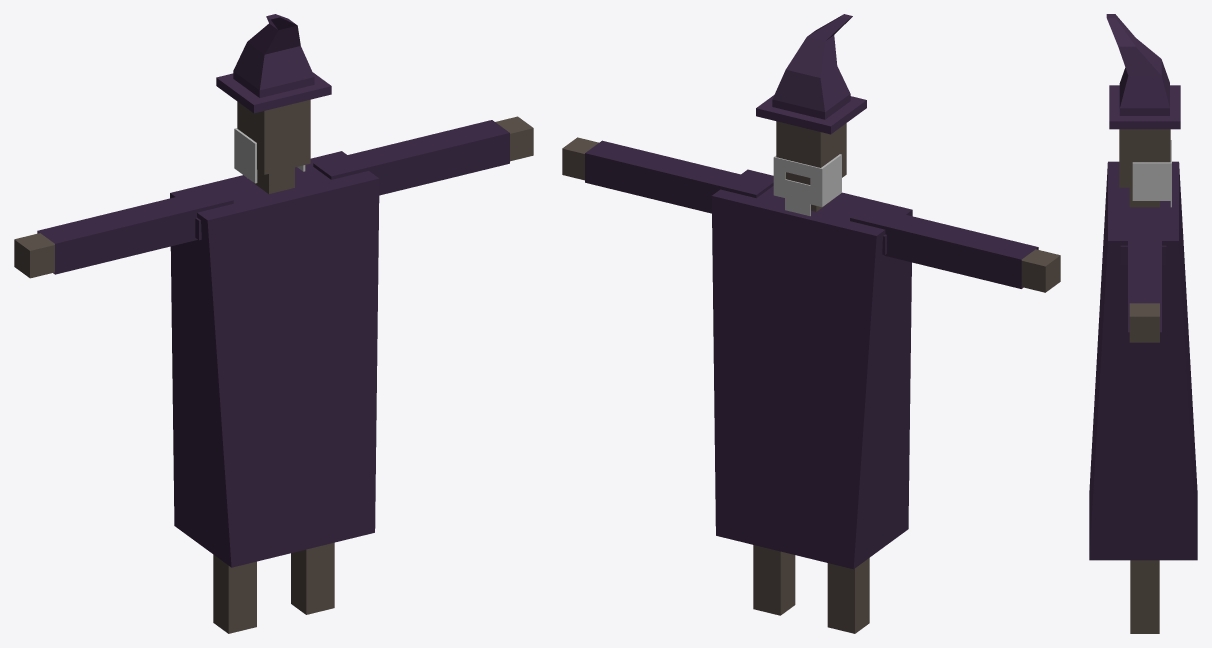
Rendered from Mage.fbx.
3 renders of one model, left to right at view 1: azimuth 30°, elevation 25°; view 2: azimuth 150°, elevation 25°; view 3: azimuth 270°, elevation 25°, orthographic. The views are drawn at different scales.
Parts seen in each view (by area): view 1: SM_neck5, SM_leftArm6 (×2), SM_hat1, SM_head1, pCube11, pCube10, SM_leftArm7 (×2), SM_beard1, SM_neck6; view 2: SM_neck5, SM_leftArm6 (×2), SM_hat1, SM_beard1, pCube11, SM_head1, pCube10, SM_leftArm7 (×2); view 3: SM_neck5, SM_hat1, SM_leftArm6, pCube10, SM_head1, SM_beard1, SM_leftArm7, SM_neck6, SM_neck7.
Part boxes in pixels (<box>): SM_neck5: <box>170,151,379,567</box>; SM_leftArm6 (×2): <box>37,120,509,274</box>; SM_hat1: <box>216,14,331,113</box>; SM_head1: <box>237,99,310,174</box>; pCube11: <box>213,554,256,633</box>; pCube10: <box>291,542,334,614</box>; SM_leftArm7 (×2): <box>14,116,533,278</box>; SM_beard1: <box>234,128,305,183</box>; SM_neck6: <box>253,167,294,193</box>; SM_neck5: <box>711,169,912,569</box>; SM_leftArm6 (×2): <box>585,140,1038,288</box>; SM_hat1: <box>756,14,866,134</box>; SM_beard1: <box>773,154,841,216</box>; pCube11: <box>827,558,869,633</box>; SM_head1: <box>776,121,846,184</box>; pCube10: <box>753,545,795,615</box>; SM_leftArm7 (×2): <box>562,137,1060,292</box>; SM_neck5: <box>1089,161,1197,560</box>; SM_hat1: <box>1106,14,1180,129</box>; SM_leftArm6: <box>1128,220,1161,332</box>; pCube10: <box>1130,560,1159,633</box>; SM_head1: <box>1119,129,1170,187</box>; SM_beard1: <box>1132,140,1171,207</box>; SM_leftArm7: <box>1129,303,1159,342</box>; SM_neck6: <box>1129,187,1159,207</box>; SM_neck7: <box>1120,245,1166,264</box>.
Bounding box in the file's own units: 182 × 213 × 35.83.
